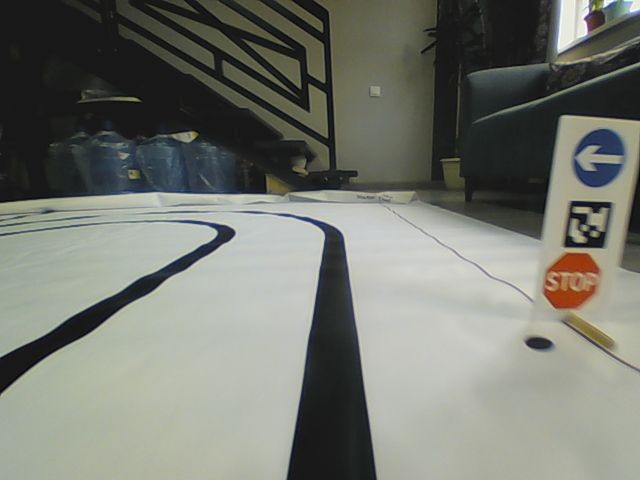Stop: (542, 250, 603, 309)
